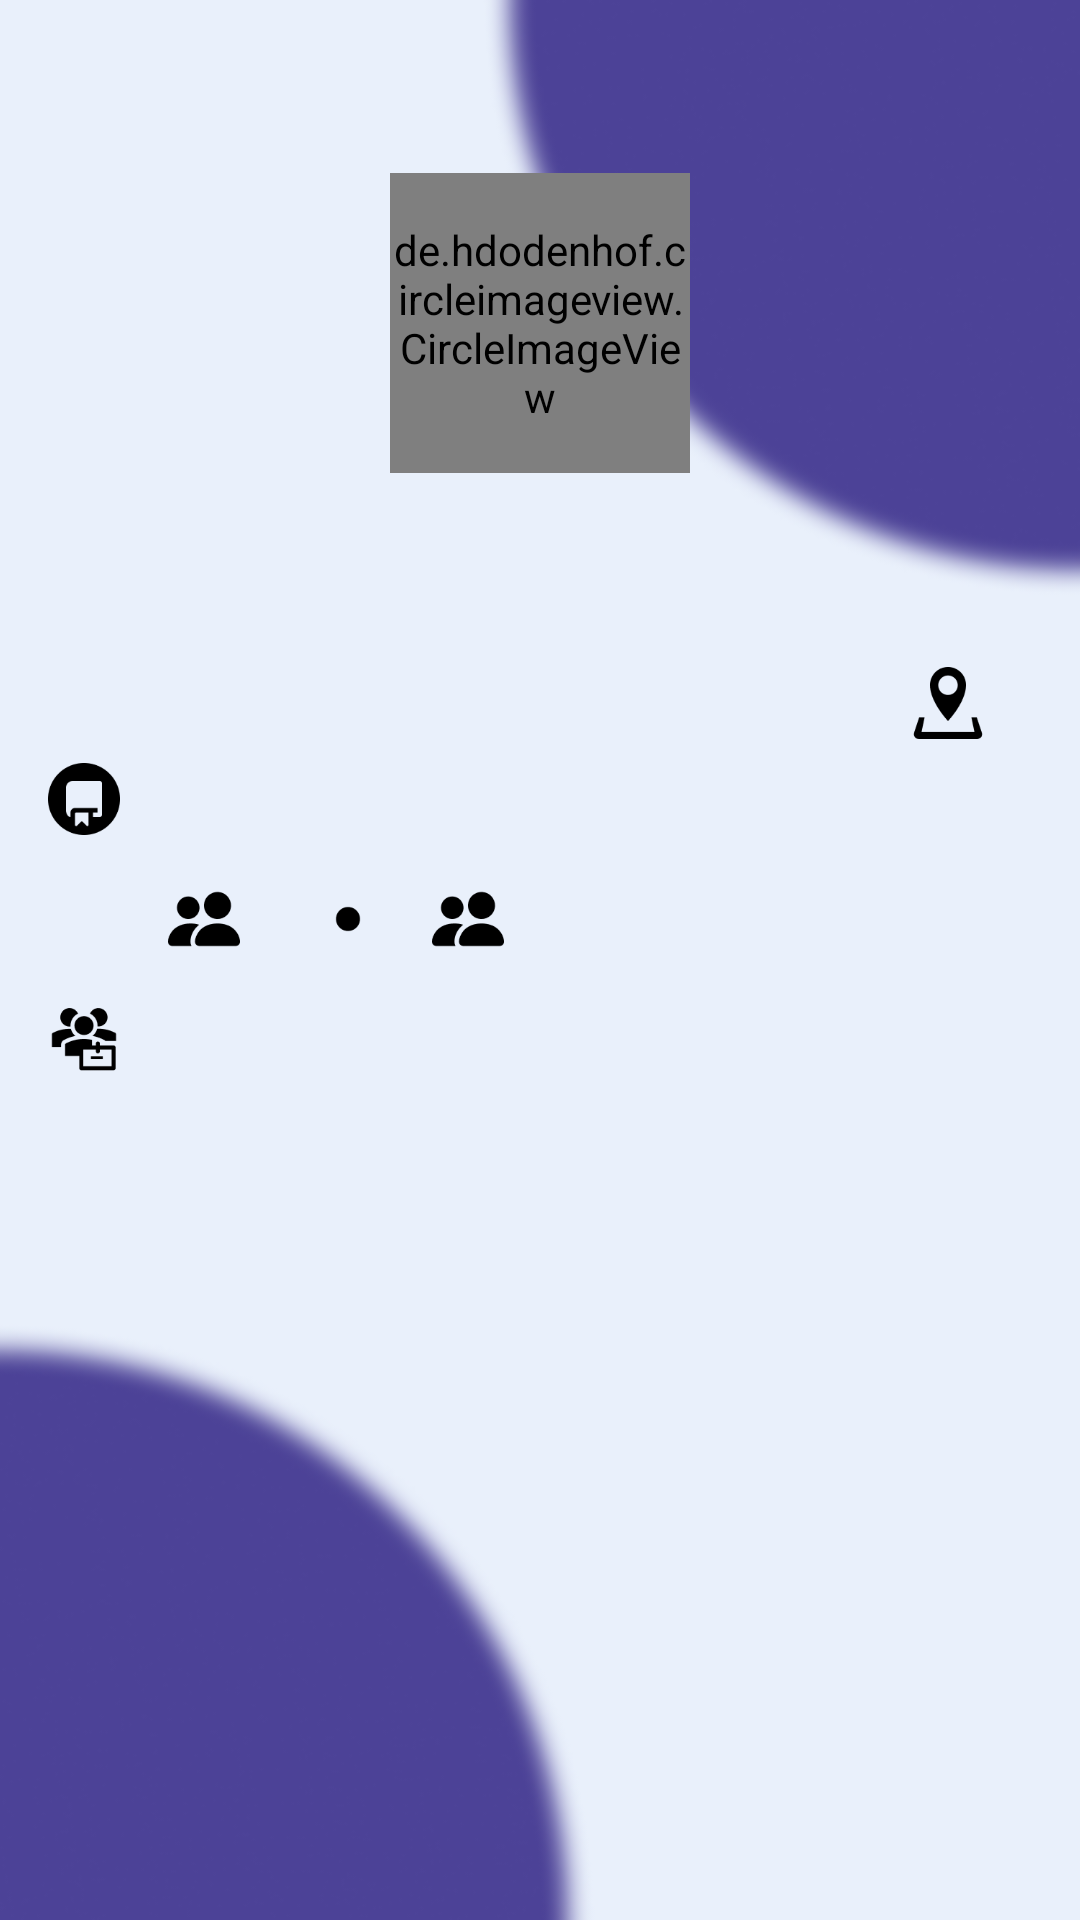

Locate icon controls on the screen. Image size 1080w x 1920h, boxes as [x1,y1,x2,y2].
company: [51,1008,117,1071]
icon Repository: [48,763,120,835]
location: [913,667,983,739]
people: [168,891,240,947], [432,891,504,947]
